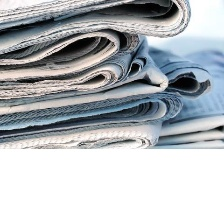news_paper: (0, 0, 223, 150)
